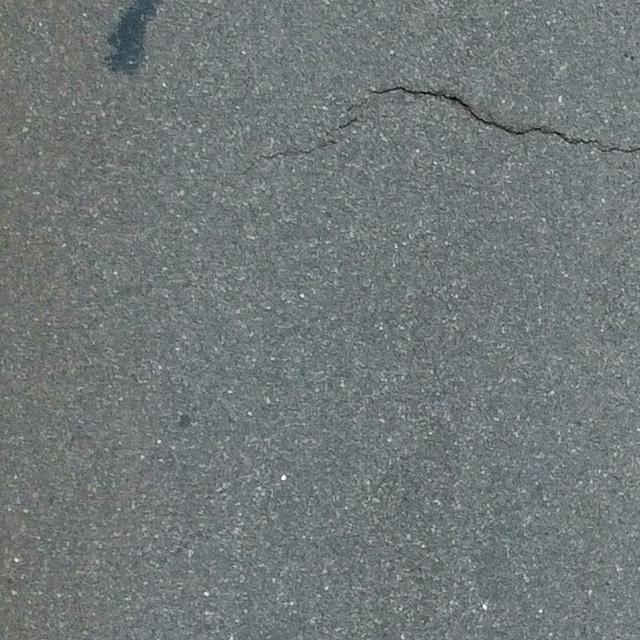TransverseCrack: (253, 85, 640, 155)
